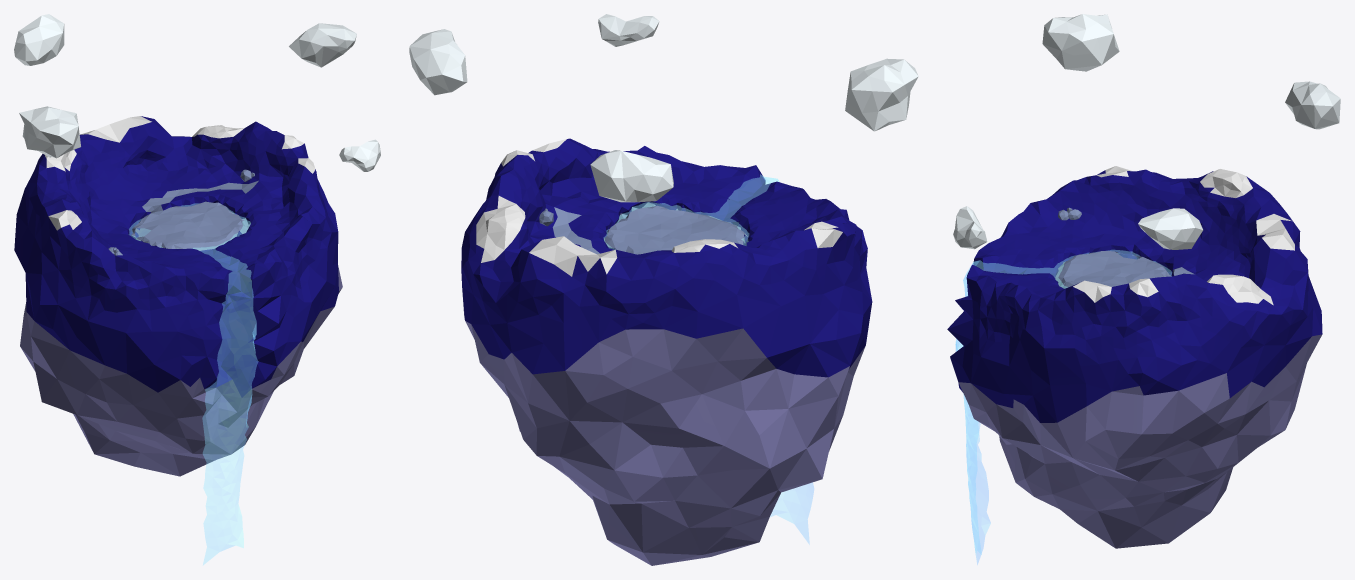
File: terrain.glb
The picture shows the model from 3 angles, left to right: view 1: azimuth 30°, elevation 25°; view 2: azimuth 150°, elevation 25°; view 3: azimuth 270°, elevation 25°; orthographic projection. The views are drawn at different scales.
Visible parts, largest first — view 1: Isla; view 2: Isla; view 3: Isla.
Part boxes in pixels (<box>): Isla: <box>14,14,380,564</box>; Isla: <box>409,14,918,565</box>; Isla: <box>947,14,1340,564</box>.
Bounding box in the file's own units: 31.58 × 37.44 × 27.52.
